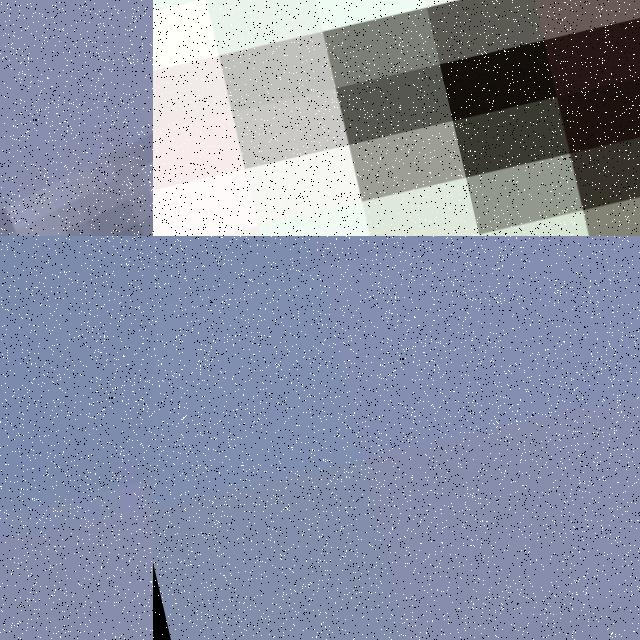drone: (0, 0, 153, 236)
